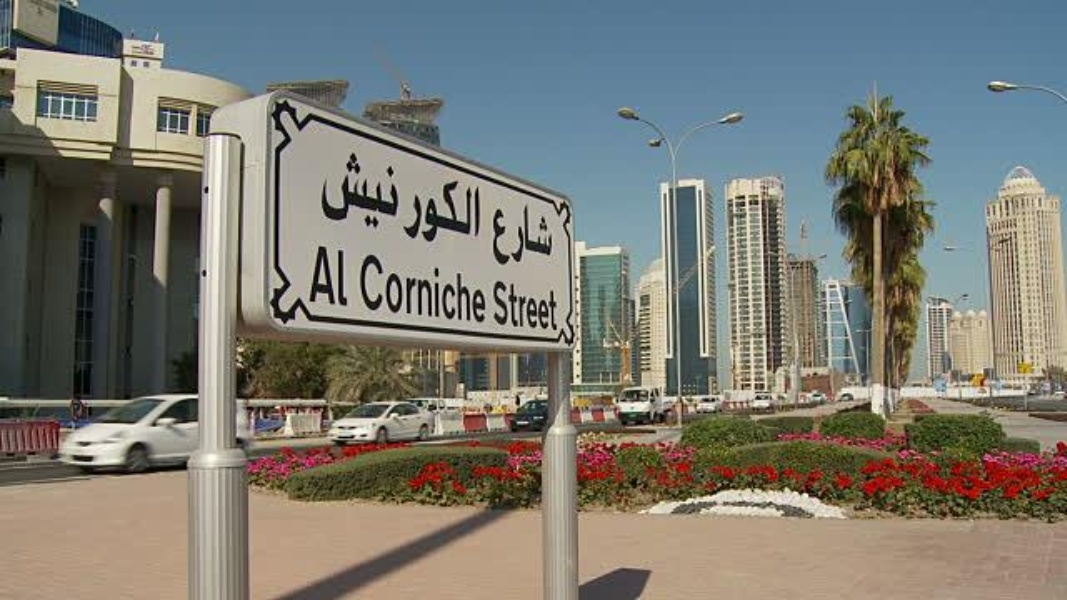text: (465, 142, 481, 254), (337, 142, 352, 254), (353, 142, 368, 254), (369, 142, 384, 254), (385, 142, 400, 254), (401, 142, 416, 254), (417, 142, 432, 254), (433, 142, 448, 254), (449, 142, 464, 254), (322, 142, 336, 254), (369, 247, 384, 329), (385, 247, 400, 329), (401, 247, 416, 329), (417, 247, 432, 329), (433, 247, 448, 329), (449, 247, 464, 329), (465, 247, 480, 329), (321, 242, 336, 314), (337, 242, 352, 314), (497, 201, 512, 271), (513, 201, 528, 271), (529, 201, 544, 271), (497, 277, 512, 332), (513, 277, 528, 332), (529, 277, 544, 332), (545, 201, 556, 271), (545, 277, 559, 332), (359, 247, 368, 329), (312, 242, 320, 314), (481, 247, 487, 329), (491, 201, 496, 271), (491, 277, 496, 332), (353, 242, 354, 314)
